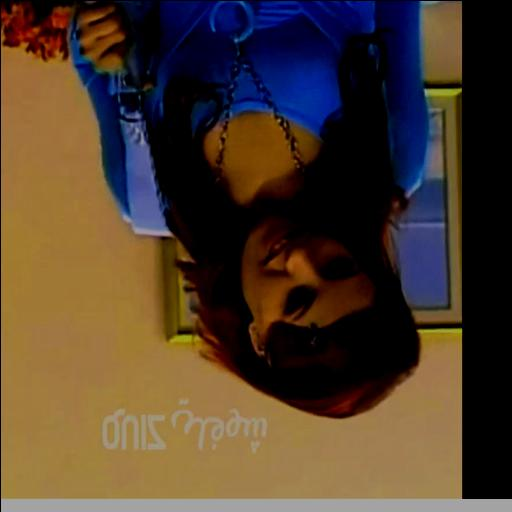Dalanda: (241, 205, 376, 356)
